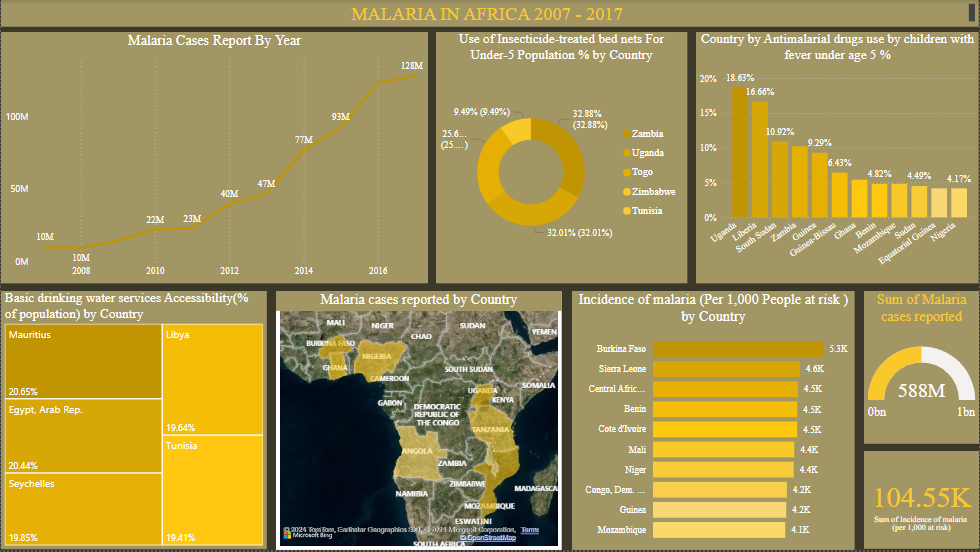

The dashboard page shown, as its layout file describes it:
{"tool":"powerbi","page":{"name":"Page 1","canvas":[1280,720],"ordinal":0},"visuals":[{"type":"lineChart","title":"Malaria Cases Report By Year","fields":{"Category":["DatasetAfricaMalaria.Year"],"Y":["Sum(DatasetAfricaMalaria.Malaria cases reported)"]},"box":[0,41.9,559,328.6],"z":0},{"type":"columnChart","title":"Country by Antimalarial drugs use by children with fever under age 5  %","fields":{"Y":["Sum(DatasetAfricaMalaria.Children with fever receiving antimalarial drugs (% of children under age 5 with fever))"],"Category":["DatasetAfricaMalaria.Country Name"]},"box":[909.8,41.9,370.5,328.6],"z":2000},{"type":"donutChart","title":"Use of  Insecticide-treated bed nets For Under-5 Population % by Country ","fields":{"Category":["DatasetAfricaMalaria.Country Name"],"Y":["Divide(Sum(DatasetAfricaMalaria.Use of insecticide-treated bed nets (% of under-5 population)), ScopedEval(Sum(DatasetAf"]},"box":[569.5,41.9,328.6,328.6],"z":3000},{"type":"barChart","title":"Incidence of malaria (Per 1,000 People at risk ) by Country","fields":{"Category":["DatasetAfricaMalaria.Country Name"],"Y":["Sum(DatasetAfricaMalaria.Incidence of malaria (per 1,000 population at risk))"]},"box":[747.5,380.9,370.5,339.1],"z":3002},{"type":"treemap","title":"Basic drinking water services Accessibility(% of population) by Country","fields":{"Group":["DatasetAfricaMalaria.Country Name"],"Values":["Sum(DatasetAfricaMalaria.People using at least basic drinking water services (% of population))"]},"box":[0,380.9,348.2,337.7],"z":3003},{"type":"filledMap","title":" Malaria cases reported by Country ","fields":{"Category":["DatasetAfricaMalaria.Country Name"]},"box":[360,380.9,374.4,339.1],"z":3004},{"type":"textbox","box":[0,0,1280.3,35.3],"z":3005},{"type":"gauge","fields":{"Y":["Sum(DatasetAfricaMalaria.Malaria cases reported)"]},"box":[1129.7,380.9,150.5,200.3],"z":3006},{"type":"card","fields":{"Values":["Sum(DatasetAfricaMalaria.Incidence of malaria (per 1,000 population at risk))"]},"box":[1129.7,590.4,150.5,128.3],"z":3007}]}

Visuals, with their boxes in screenshot pixels (x1, y1, x2, y2), scaled from the page's 1280x720 canvas onto the 980x552 screenshot:
"Malaria Cases Report By Year" lineChart: locate(0, 32, 428, 284)
"Country by Antimalarial drugs use by children with fever under age 5  %" columnChart: locate(697, 32, 979, 284)
"Use of  Insecticide-treated bed nets For Under-5 Population % by Country " donutChart: locate(436, 32, 688, 284)
"Incidence of malaria (Per 1,000 People at risk ) by Country" barChart: locate(572, 292, 856, 551)
"Basic drinking water services Accessibility(% of population) by Country" treemap: locate(0, 292, 267, 551)
" Malaria cases reported by Country " filledMap: locate(276, 292, 562, 551)
textbox: locate(0, 0, 979, 27)
gauge - Sum(DatasetAfricaMalaria.Malaria cases reported): locate(865, 292, 979, 446)
card - Sum(DatasetAfricaMalaria.Incidence of malaria (per 1,000 population at risk)): locate(865, 453, 979, 551)
